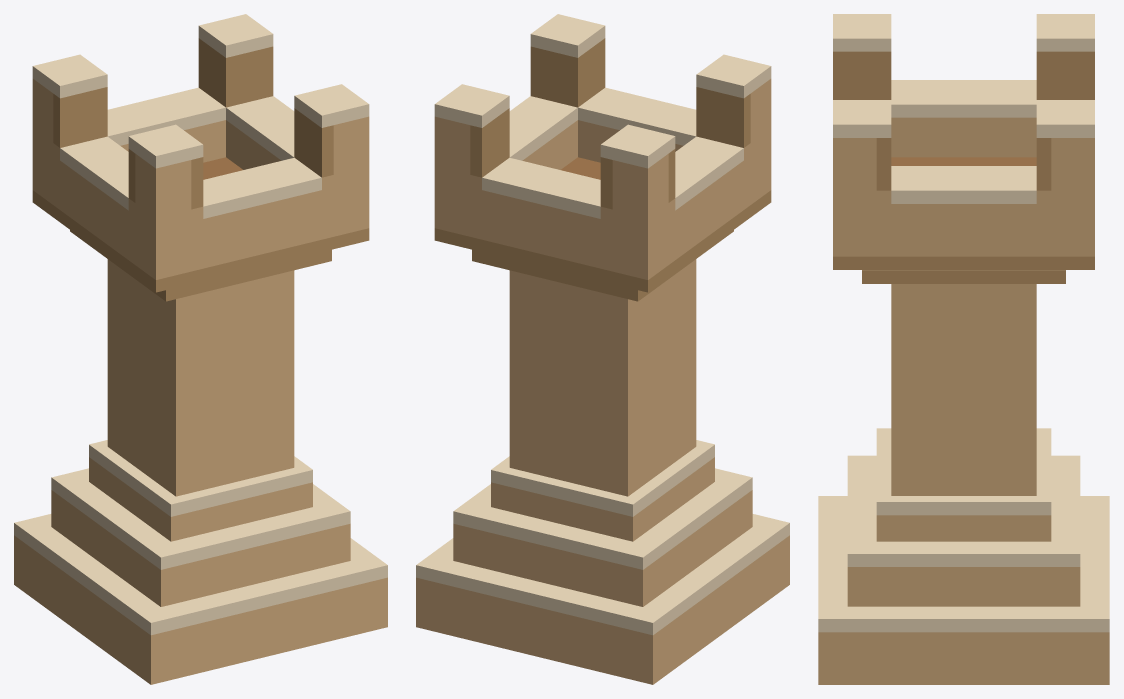
File: rook_white.obj
The picture shows the model from 3 angles, left to right: view 1: azimuth 30°, elevation 25°; view 2: azimuth 150°, elevation 25°; view 3: azimuth 270°, elevation 25°; orthographic projection. The views are drawn at different scales.
Visible parts, largest first — view 1: rook_white; view 2: rook_white; view 3: rook_white.
Boxes of the visible parts, left/top/right/bottom form: rook_white: left=14, top=14, right=387, bottom=684; rook_white: left=416, top=14, right=789, bottom=684; rook_white: left=818, top=14, right=1109, bottom=684.
Bounding box in the file's own units: 0.42 × 0.882 × 0.42.
Materials: 1 (1 with a texture image).
